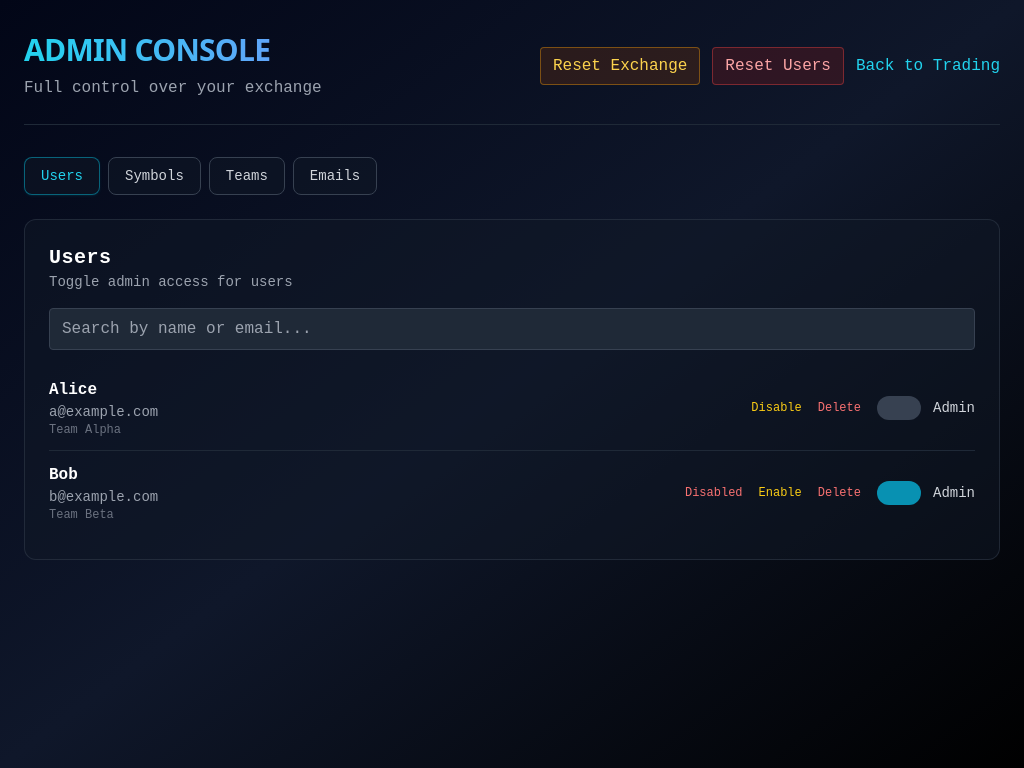
it: TeamsPanel › filters teams by search term
This screenshot has width=1024, height=768.
Click the button "Teams". click: x=247, y=176
box: [209,157,285,195]
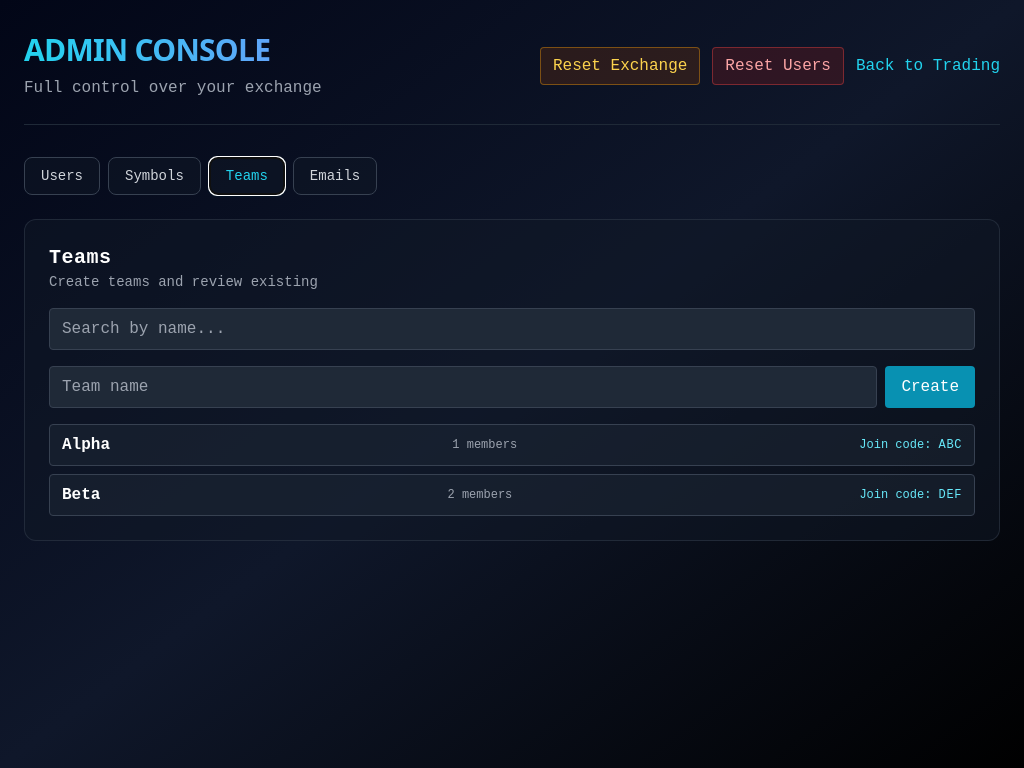
Type "alpha" into the field with placeholder "Search by name...". click: x=512, y=329
box: [49,308,975,350]
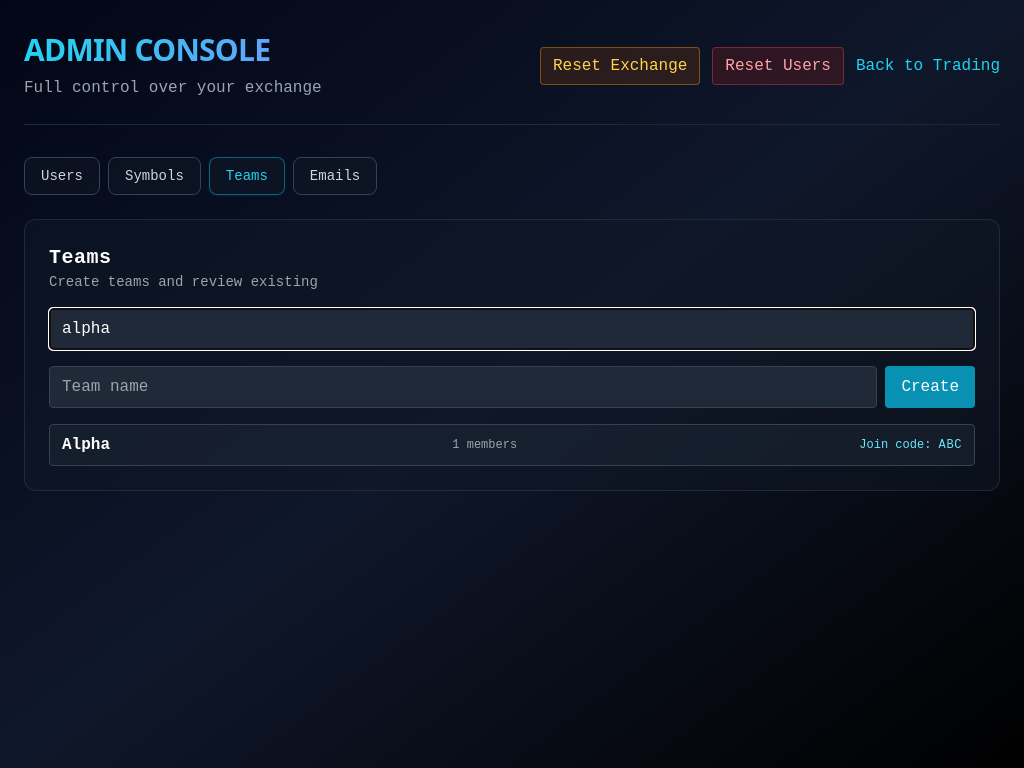
Expected: the link "Alpha" is shown, [62,433,110,457]
Result: the link "Beta" is gone
